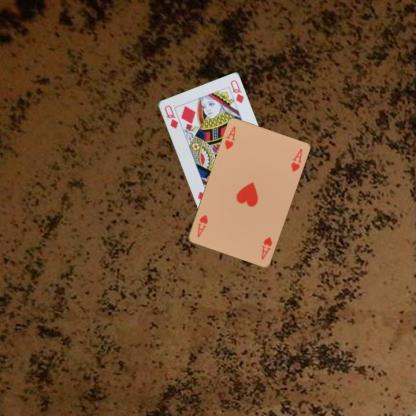Ah: (222, 124, 237, 150), (259, 235, 273, 261)
Qd: (162, 102, 179, 130)
